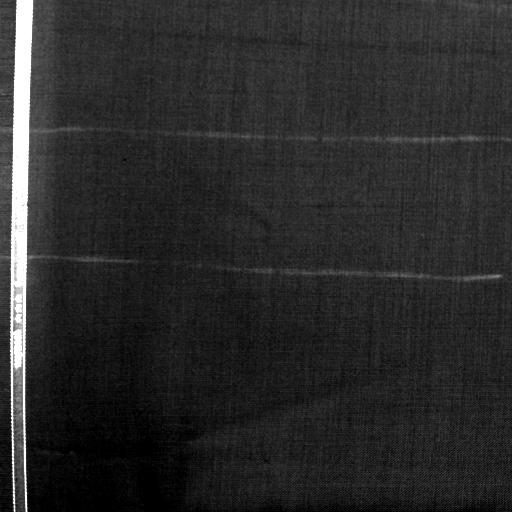fabric_broken_pick: (286, 189, 420, 231)
